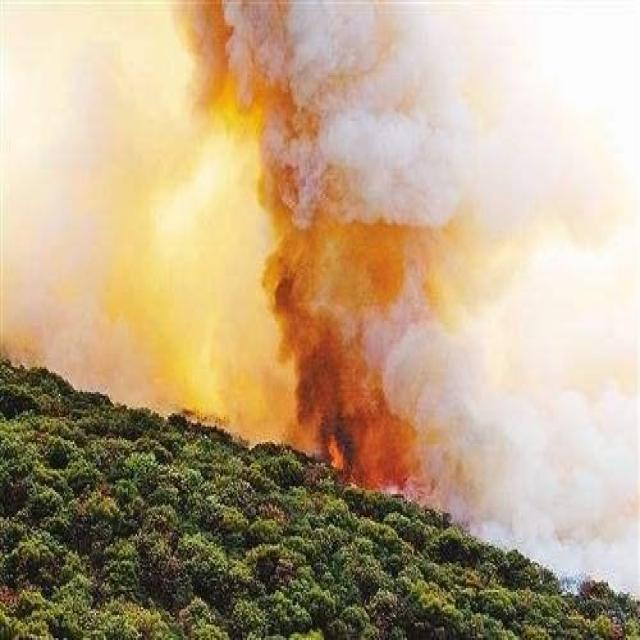fire: (290, 377, 374, 486)
smoke: (17, 15, 616, 382)
